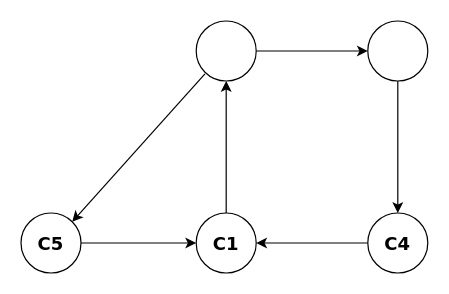
Some shapes in this 449 by 294 pixel diagram are drawn without their labels. Each missing label, with the centre of its shape:
"C2" goes at point 225,50.
"C3" goes at point 397,50.
